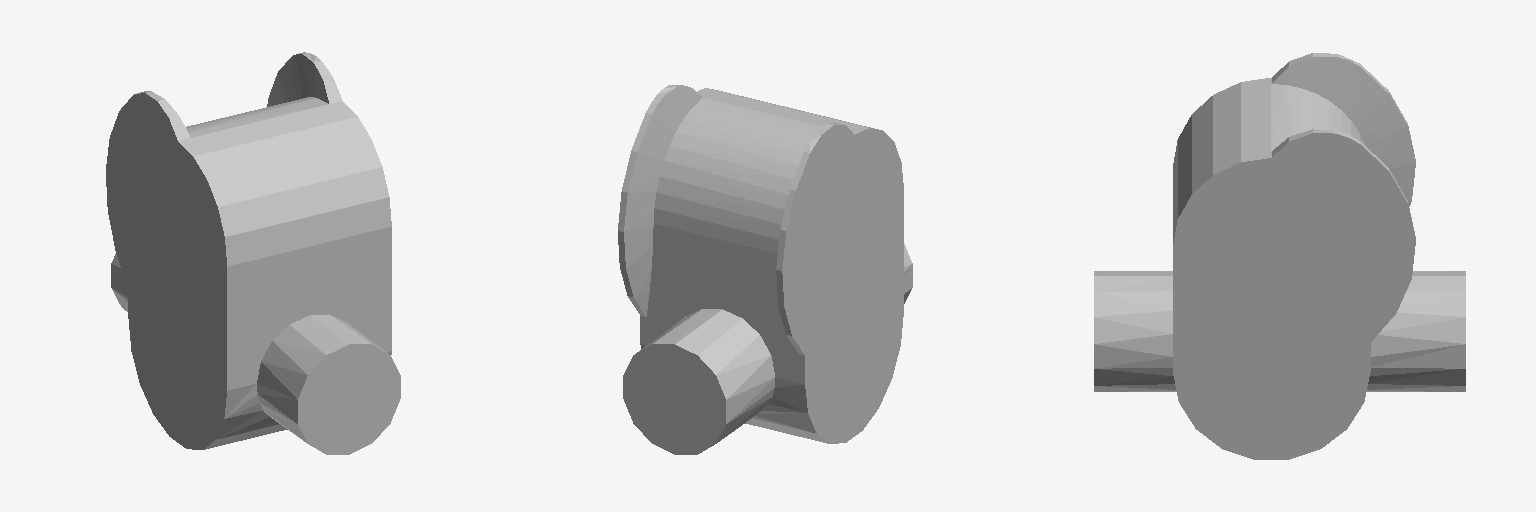
Rendered from ph_knuckle.obj.
3 renders of one model, left to right at view 1: azimuth 30°, elevation 25°; view 2: azimuth 150°, elevation 25°; view 3: azimuth 270°, elevation 25°, orthographic.
Size of the model in its own units: 12.5 by 23.74 by 24.5.